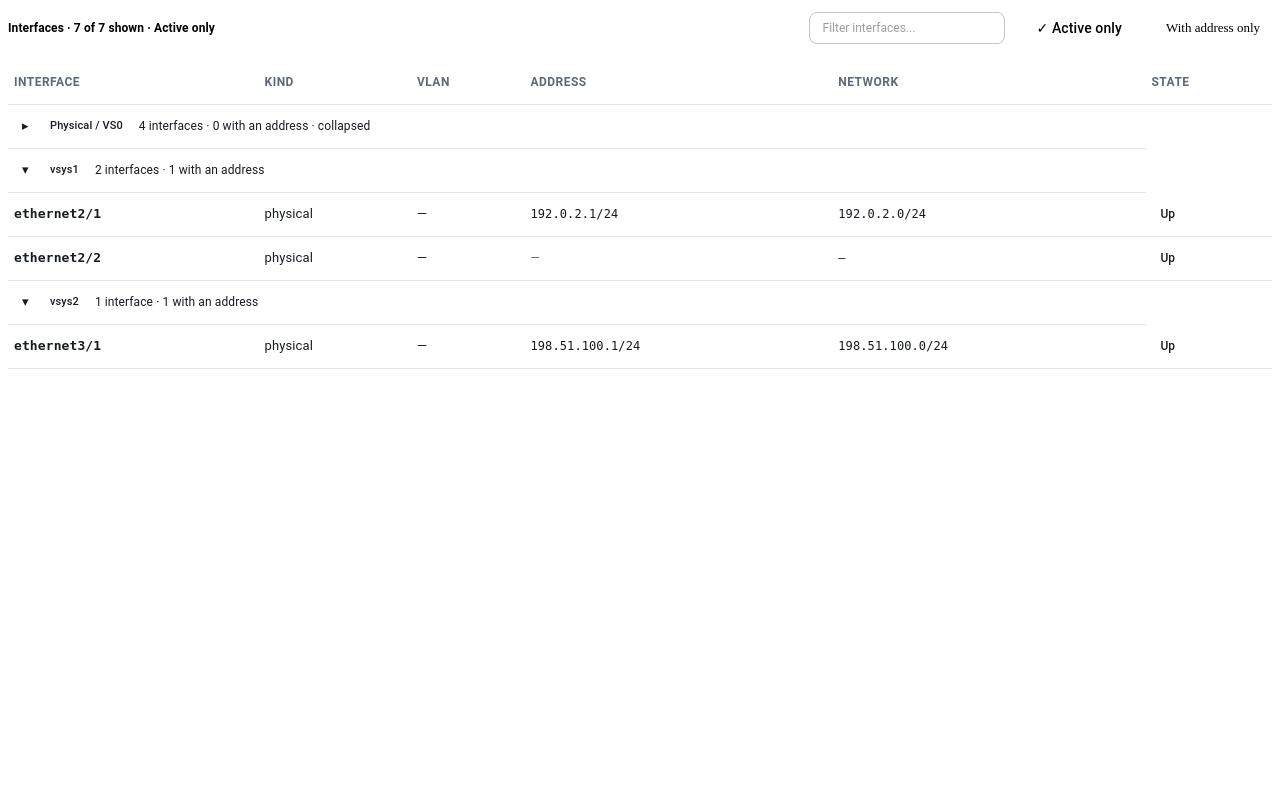
Scenario: grouped by VSYS › keeps every row reachable: opening the physical group shows all of its rows, and a group can be closed
What coordinates should you click on to do the following:
click the button that starts with "Physical / VS0"
I would click on:
 (86, 126)
Its box is [14, 109, 1140, 143].
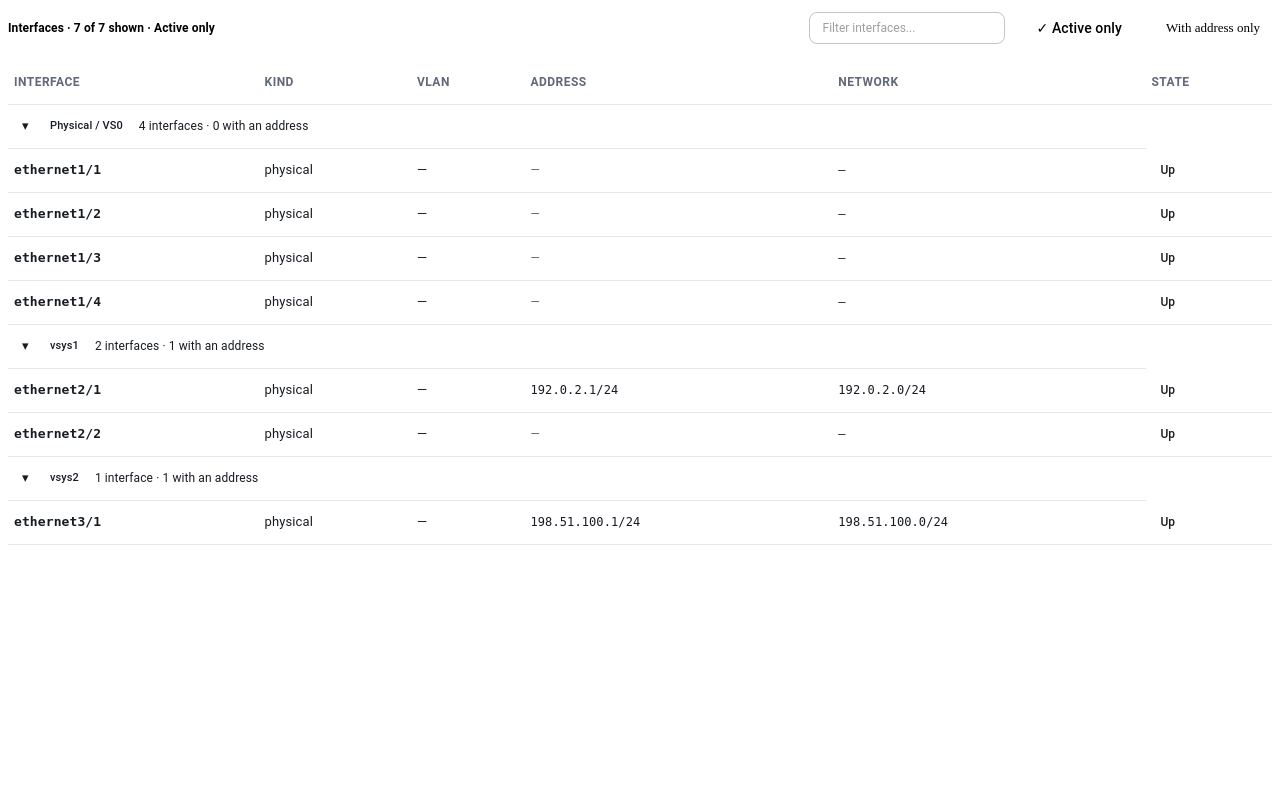
Now the text "ethernet1/1" is shown, box [8, 148, 259, 192]
Now the text "ethernet1/3" is shown, box [8, 236, 259, 280]
What coordinates should you click on to do the following:
click the button "▾ vsys2 1 interface · 1 with an address"
I would click on:
 (124, 478)
Its box is [14, 461, 1140, 495].
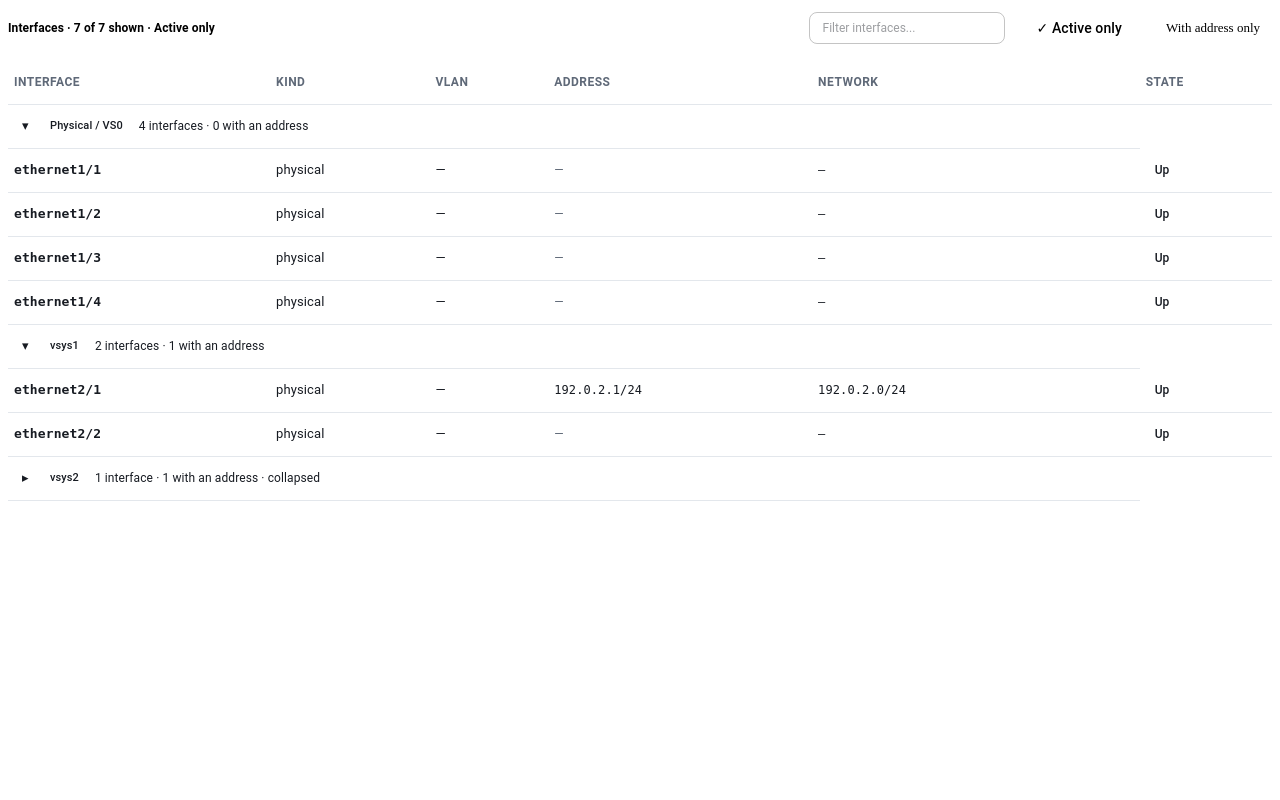
Now the text "ethernet3/1" is gone
What coordinates should you click on to do the following:
click the button "▸ vsys2 1 interface · 1 with an address · collapsed"
I would click on:
 (124, 478)
Its box is [14, 461, 1134, 495].
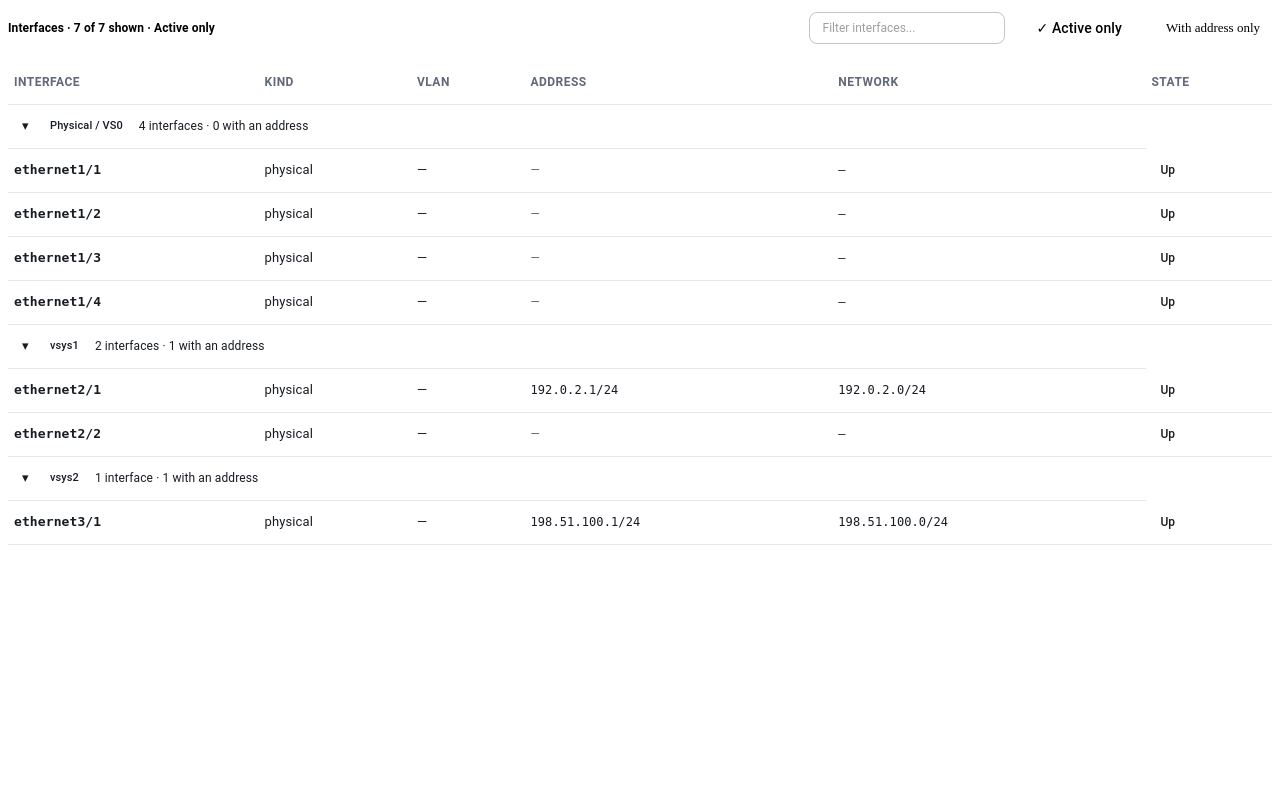
Now the text "ethernet3/1" is shown, box [8, 500, 259, 544]
